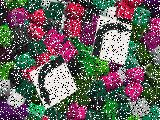Left: (28, 54, 78, 110)
Right: (91, 15, 133, 65)
